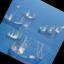fishing boat: (6, 31, 49, 64), (0, 5, 28, 33), (18, 5, 39, 26), (4, 26, 25, 46), (36, 21, 56, 40)
